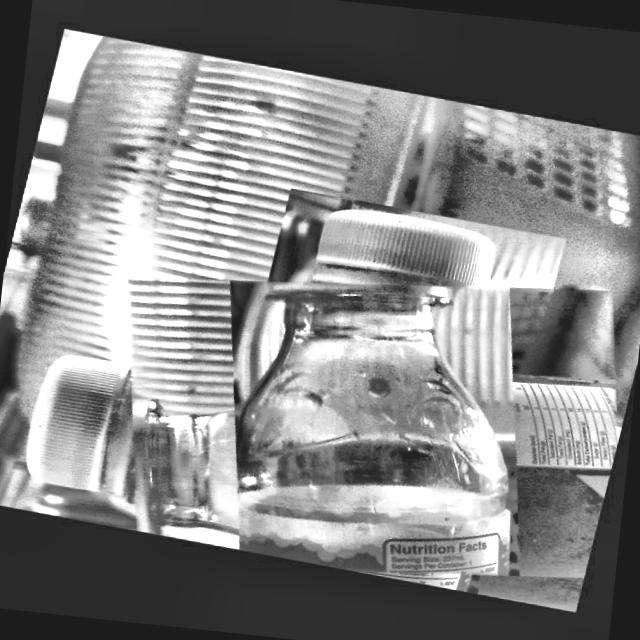Plastic-Bottle: (81, 219, 640, 615)
